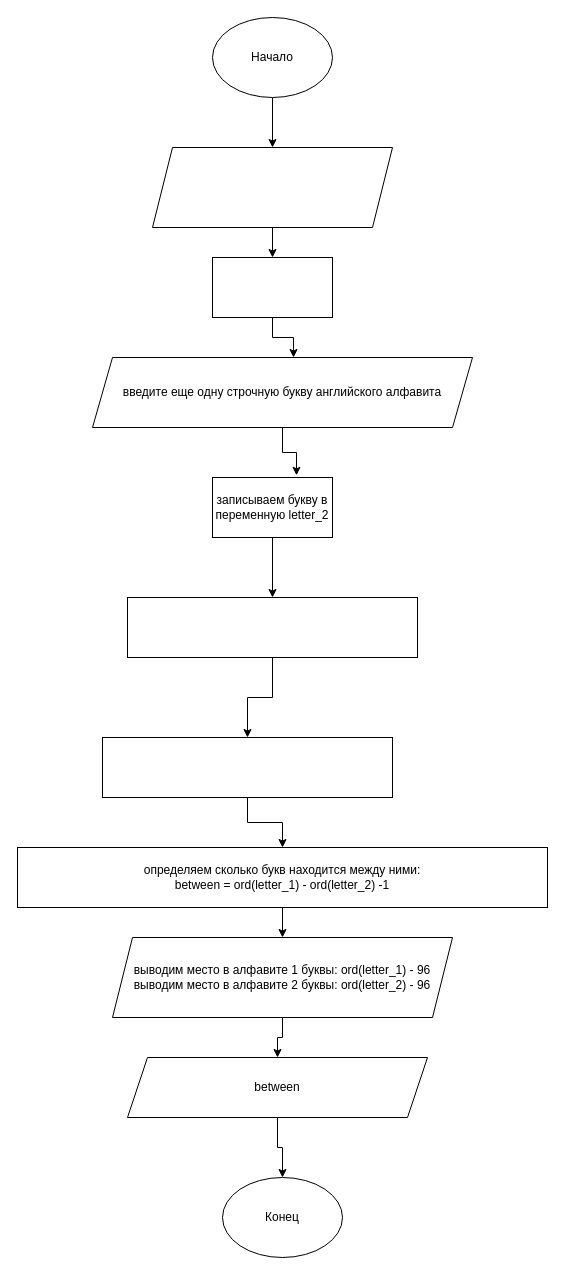
The diagram is 565 pixels wide and 1275 high, and some of its shapes have lost their labels. The box of each missing label's shape, as (x1, y1, x2, y2) in pixels:
введите строчную букву английского алфавита: (152, 146, 392, 228)
записываем букву в переменную letter_1: (212, 256, 332, 318)
определяем место в алфавите для 1 буквы ord(letter_1) - 96: (126, 596, 418, 658)
определяем место в алфавите для 2 буквы ord(letter_2) - 96: (102, 736, 392, 798)
